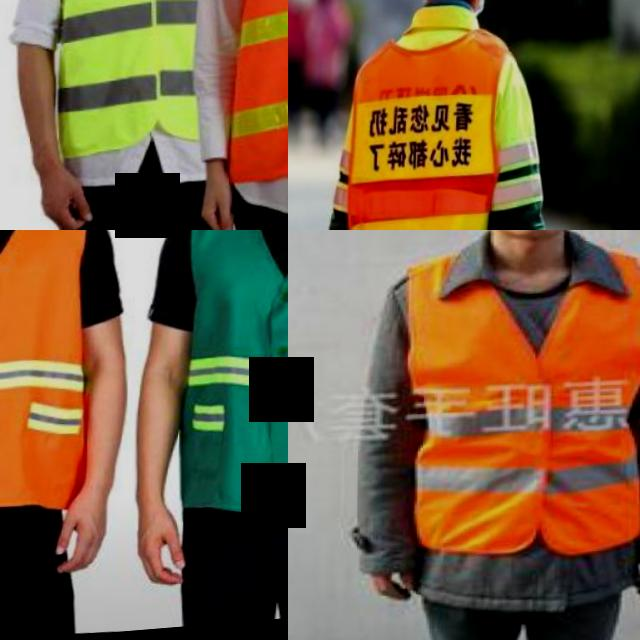vest: (395, 243, 640, 570), (179, 230, 288, 527), (341, 31, 503, 230), (32, 0, 219, 159), (0, 230, 92, 520), (186, 0, 288, 202)
